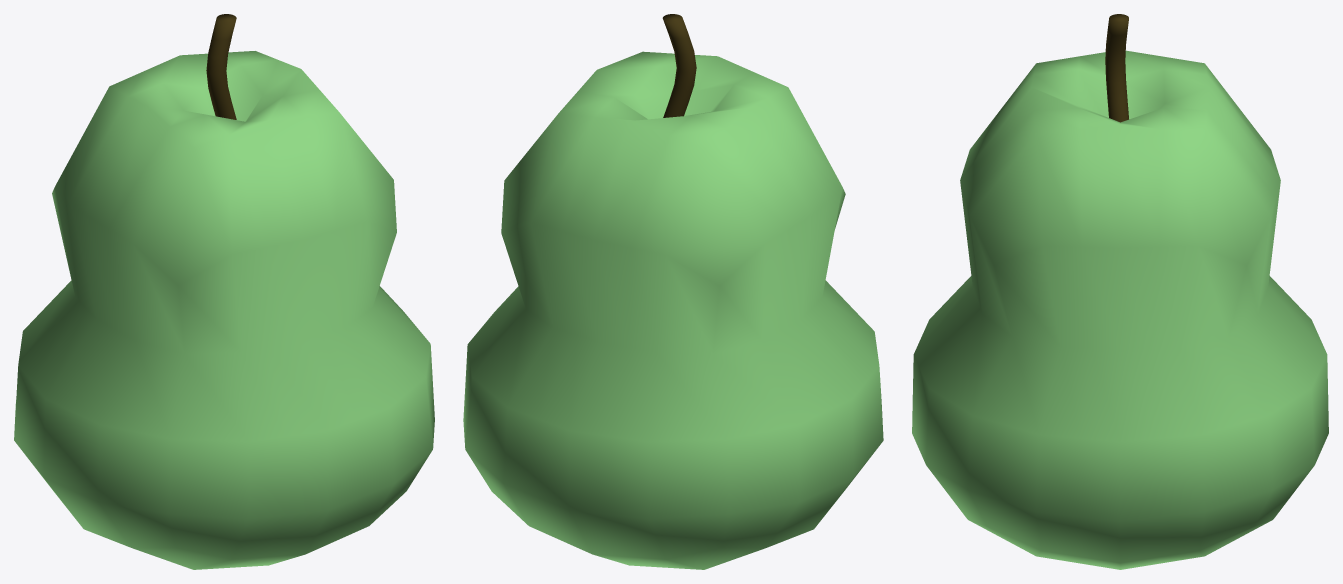
File: pear.glb
3 views of the same model, side by side, from view 1: azimuth 30°, elevation 25°; view 2: azimuth 150°, elevation 25°; view 3: azimuth 270°, elevation 25° (orthographic).
Visible parts, largest first — view 1: Cube, Cylinder; view 2: Cube, Cylinder; view 3: Cube, Cylinder.
Part boxes in pixels (x1,y1,x2,y2): Cube: (14, 51, 434, 569); Cylinder: (206, 14, 236, 119); Cube: (463, 51, 883, 569); Cylinder: (662, 14, 696, 117); Cube: (912, 50, 1328, 569); Cylinder: (1105, 14, 1128, 122).
Size of the model in its own units: 1.56 by 2.13 by 1.56.
